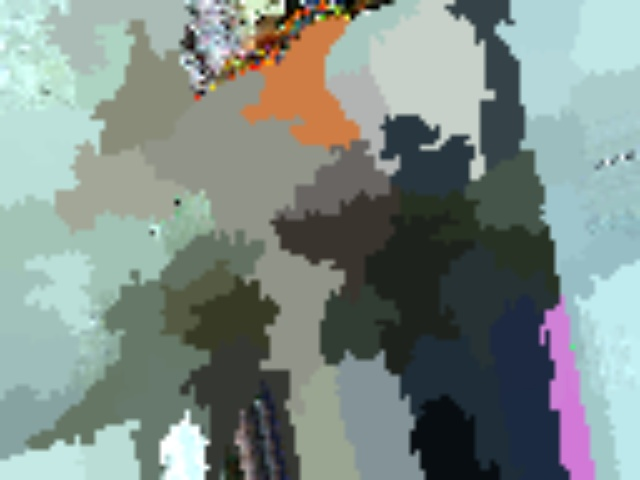one: (336, 32, 372, 78)
